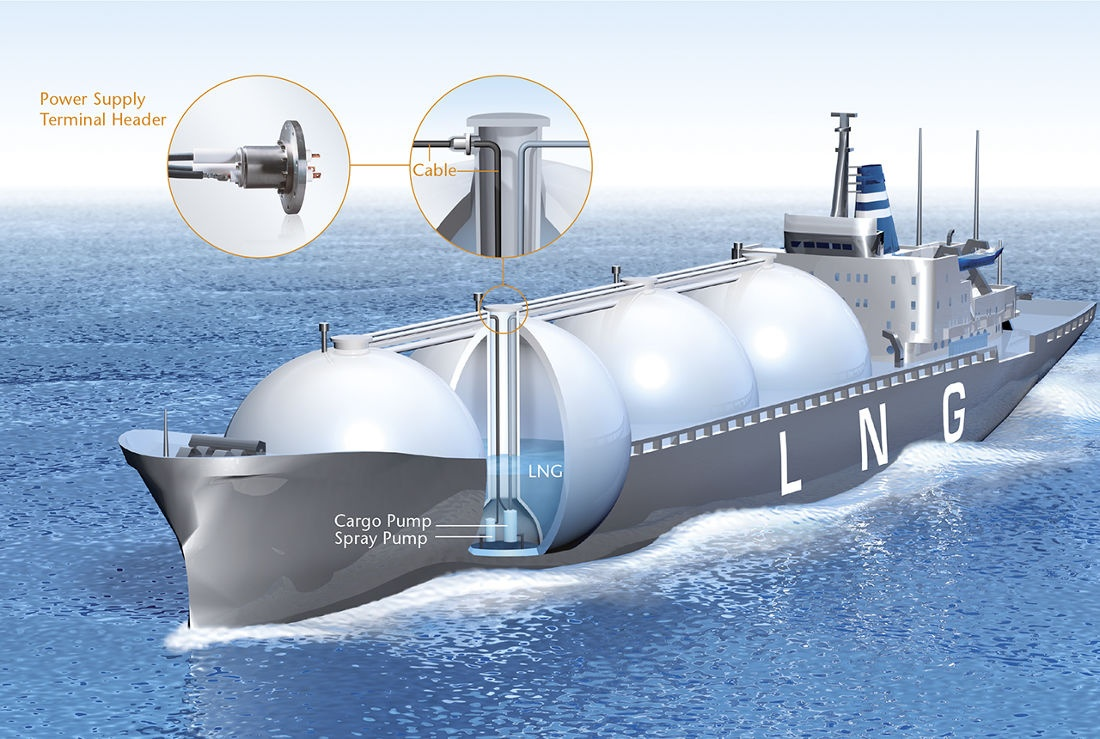Cargoship: (122, 92, 1082, 603)
